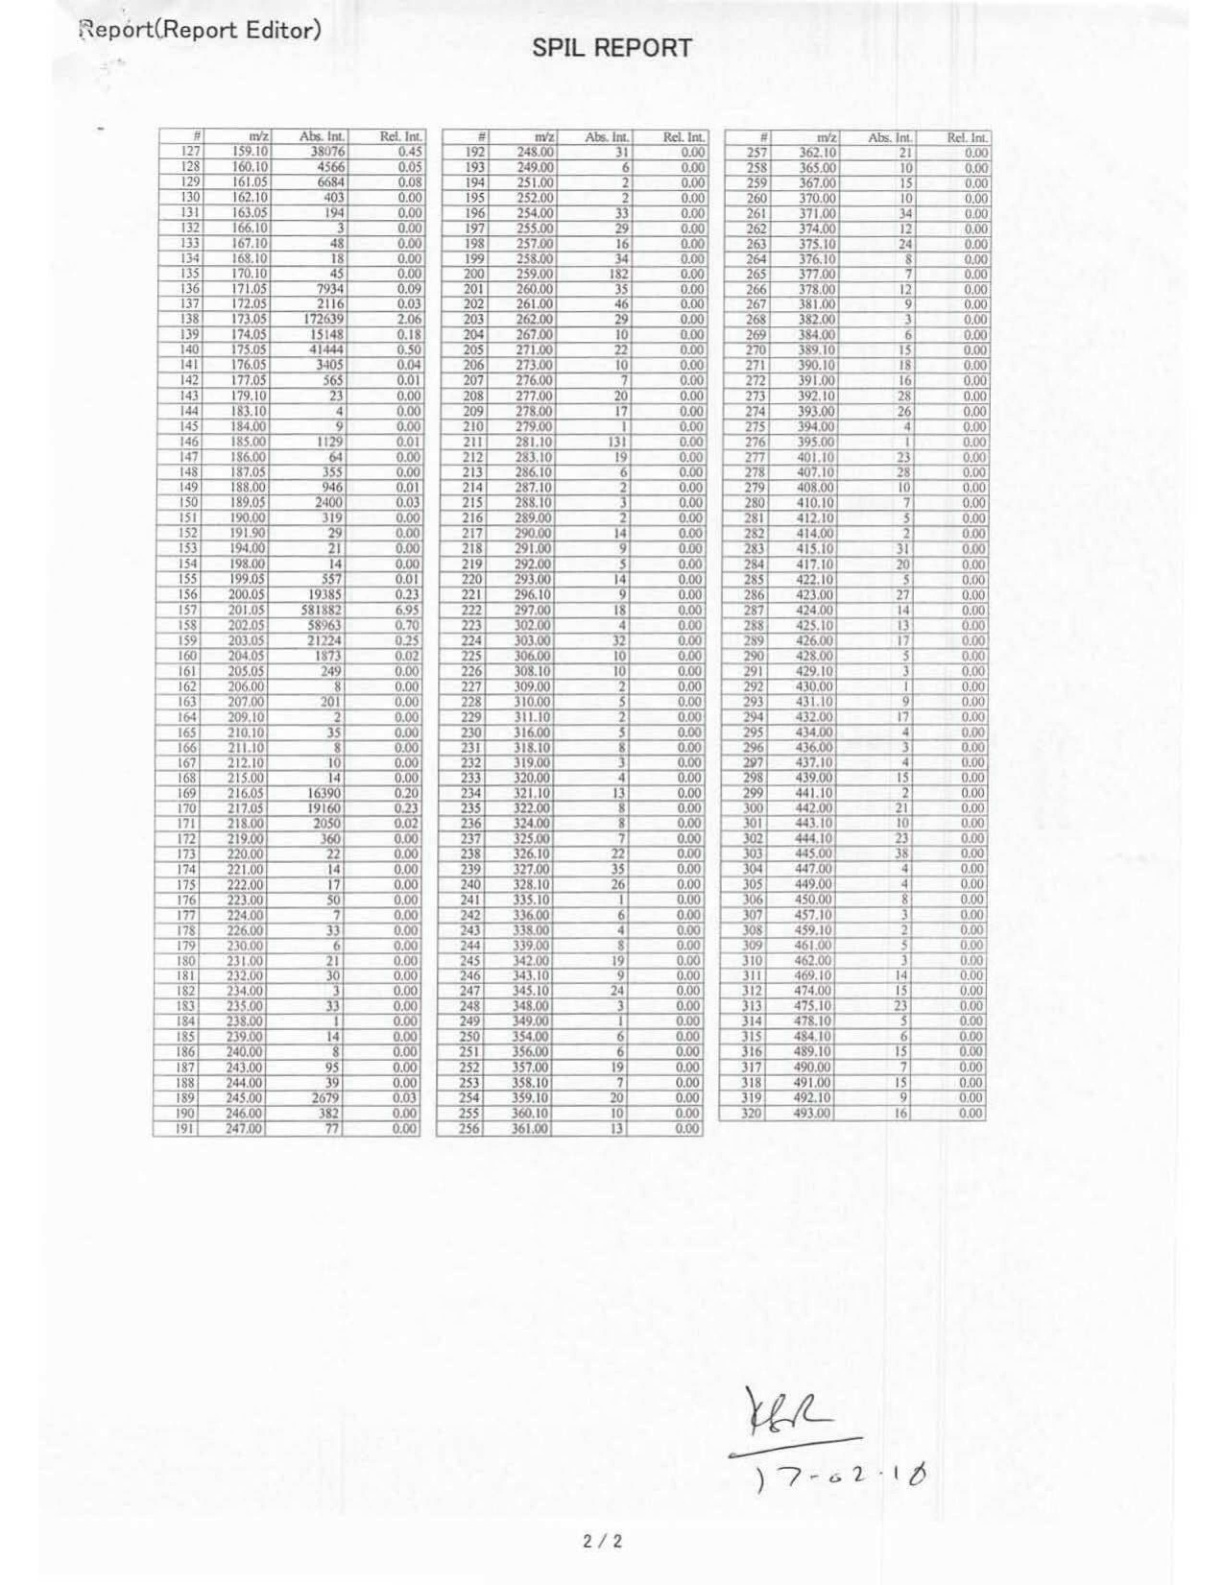full_lined: (150, 127, 427, 1139), (435, 129, 711, 1138), (717, 129, 993, 1122)
